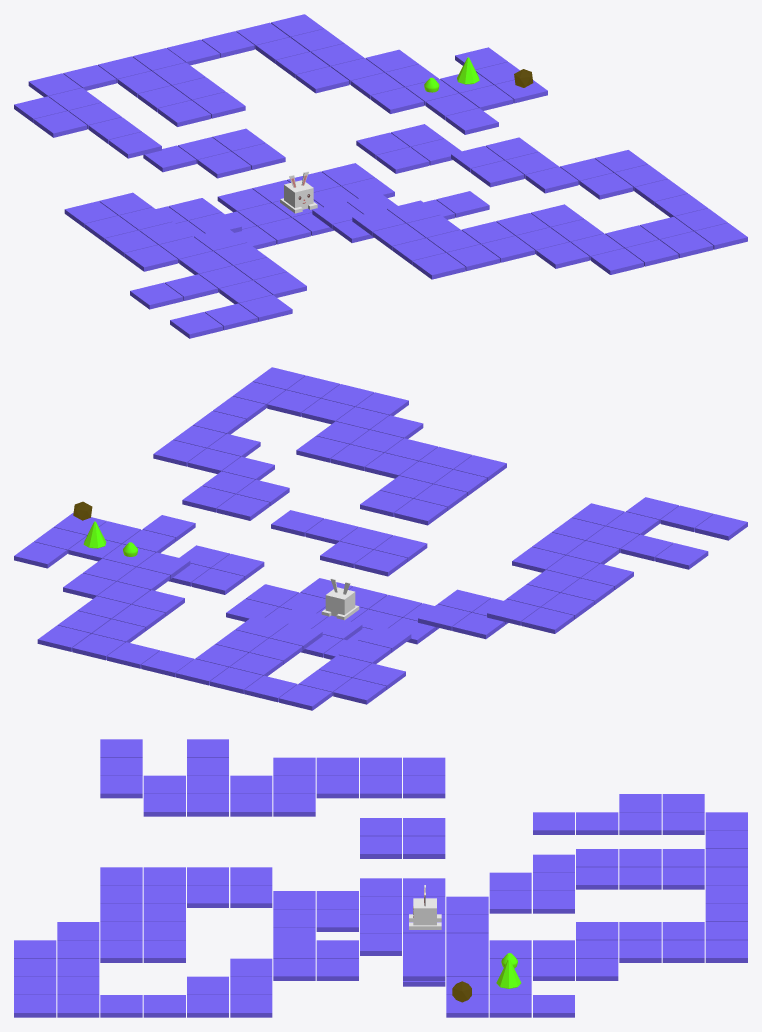
The model's file is SCEEN1.2.fbx.
3 views of the same model, one above another, from view 1: azimuth 30°, elevation 25°; view 2: azimuth 150°, elevation 25°; view 3: azimuth 270°, elevation 25° (orthographic). The views are drawn at different scales.
Visible parts, largest first — view 1: PURPLE_0_3, PURPLE_1_0_2_3, PURPLE_5_2_2, PURPLE_1_3_0, PURPLE_0_4, PURPLE_6_2_0, PURPLE_1_0_1_2, PURPLE_6_2_2_1, PINK_0, PURPLE_2_1, PURPLE_2_3, PURPLE_0_2 (+102 smaller); view 2: PURPLE_6_2_3_1, PURPLE_1_0_1_3, PINK_2_3, PURPLE_6, PURPLE_6_2, PURPLE_2_1, PINK_2_2, PURPLE_2_3, PURPLE_6_2_2_2, PURPLE_1_3_3_1, PINK_2_4, body (+101 smaller); view 3: PURPLE_2_2, PURPLE_3_2_2, PURPLE_7_2, PURPLE_5_2, PURPLE_1, PURPLE_5, PURPLE_7, PURPLE_1_0_4, PURPLE_1_2_2, PURPLE_1_5, PURPLE_7_3, PURPLE_1_0_4_1 (+106 smaller).
Boxes of the visible parts, x1=… form: PURPLE_0_3: x1=412, y1=253, x2=465, y2=279; PURPLE_1_0_2_3: x1=525, y1=166, x2=578, y2=193; PURPLE_5_2_2: x1=580, y1=173, x2=633, y2=199; PURPLE_1_3_0: x1=445, y1=108, x2=498, y2=134; PURPLE_0_4: x1=296, y1=66, x2=349, y2=93; PURPLE_6_2_0: x1=108, y1=132, x2=161, y2=158; PURPLE_1_0_1_2: x1=471, y1=160, x2=524, y2=187; PURPLE_6_2_2_1: x1=34, y1=111, x2=87, y2=137; PINK_0: x1=197, y1=151, x2=250, y2=178; PURPLE_2_1: x1=130, y1=282, x2=183, y2=309; PURPLE_2_3: x1=170, y1=312, x2=223, y2=338; PURPLE_0_2: x1=124, y1=245, x2=177, y2=271; PURPLE_6_2_3_1: x1=333, y1=678, x2=386, y2=704; PURPLE_1_0_1_3: x1=216, y1=494, x2=269, y2=520; PINK_2_3: x1=191, y1=568, x2=244, y2=594; PURPLE_6: x1=521, y1=607, x2=574, y2=633; PURPLE_6_2: x1=394, y1=499, x2=447, y2=525; PURPLE_2_1: x1=655, y1=543, x2=708, y2=569; PINK_2_2: x1=354, y1=550, x2=407, y2=576; PURPLE_2_3: x1=695, y1=514, x2=747, y2=540; PURPLE_6_2_2_2: x1=279, y1=684, x2=331, y2=710; PURPLE_1_3_3_1: x1=14, y1=542, x2=66, y2=568; PINK_2_4: x1=452, y1=612, x2=505, y2=639; body: x1=321, y1=587, x2=359, y2=620; PURPLE_2_2: x1=100, y1=775, x2=142, y2=798; PURPLE_3_2_2: x1=316, y1=775, x2=358, y2=798; PURPLE_7_2: x1=403, y1=775, x2=445, y2=798; PURPLE_5_2: x1=360, y1=775, x2=401, y2=798; PURPLE_1: x1=143, y1=794, x2=185, y2=816; PURPLE_5: x1=230, y1=794, x2=272, y2=816; PURPLE_7: x1=273, y1=794, x2=315, y2=816; PURPLE_1_0_4: x1=57, y1=995, x2=99, y2=1017; PURPLE_1_2_2: x1=100, y1=940, x2=142, y2=962; PURPLE_1_5: x1=143, y1=940, x2=185, y2=962; PURPLE_7_3: x1=230, y1=885, x2=272, y2=907; PURPLE_1_0_4_1: x1=14, y1=995, x2=56, y2=1017.
Bounding box in the file's own units: 1228 × 165 × 1392.
